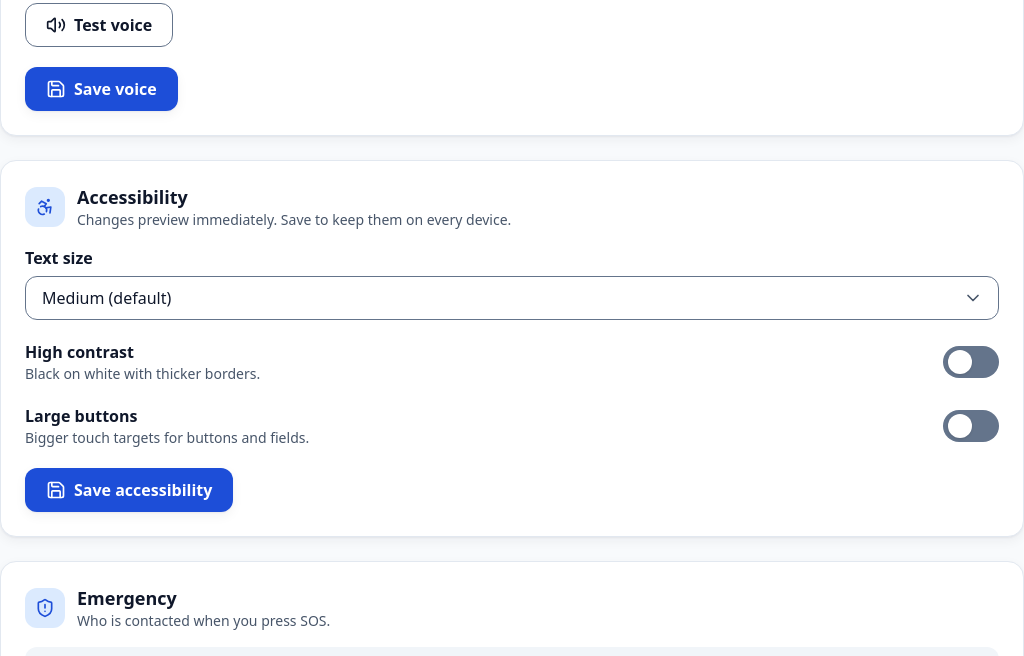
Test case: Settings page › accessibility: previews immediately, saves to the server, caches locally
(page scrolled)
Select "Extra large" in the dropdown labelled "Text size" at (512, 298), box x1=25 y1=276 x2=999 y2=320
(page scrolled)
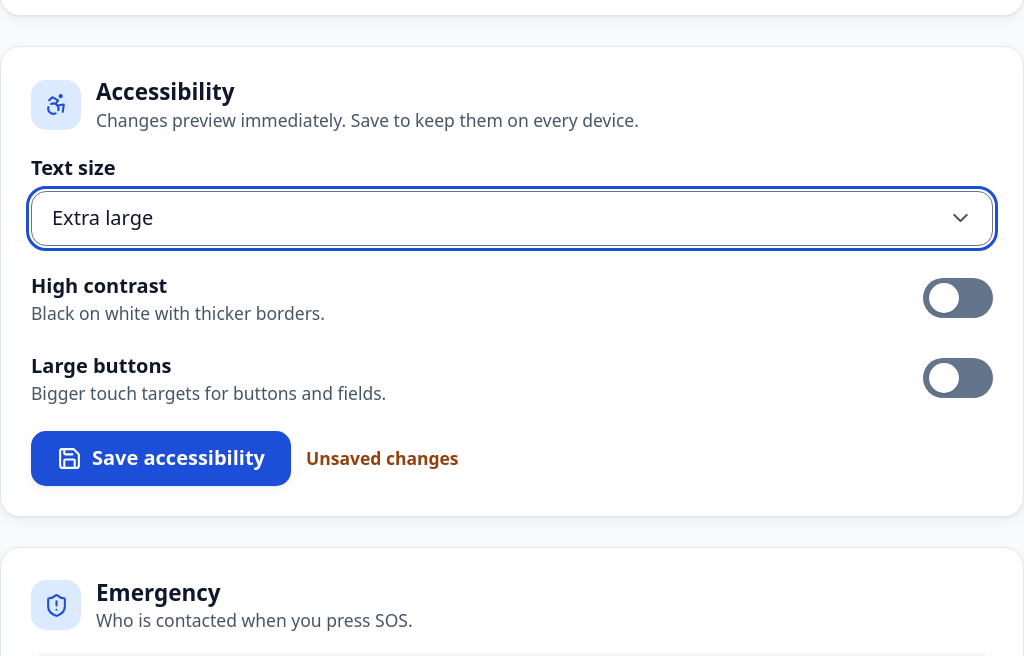
Click the switch named "High contrast" in the row of "Black on white with thicker borders." at (958, 298), box x1=923 y1=270 x2=993 y2=326
(page scrolled)
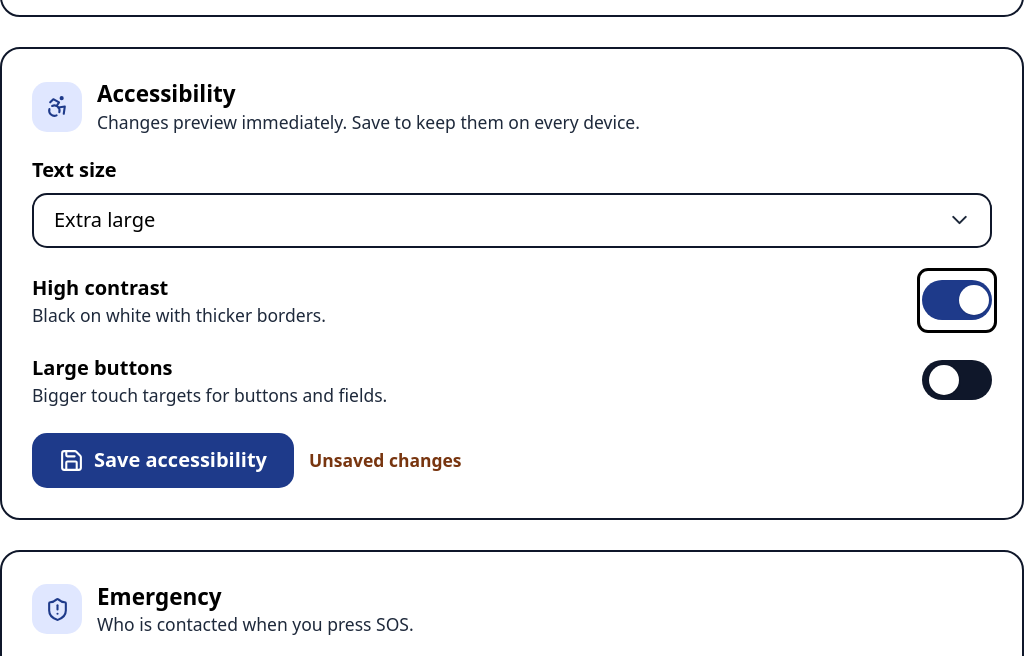
Click the switch named "Large buttons" in the row of "Large buttons" at (957, 380), box x1=922 y1=352 x2=992 y2=408
(page scrolled)
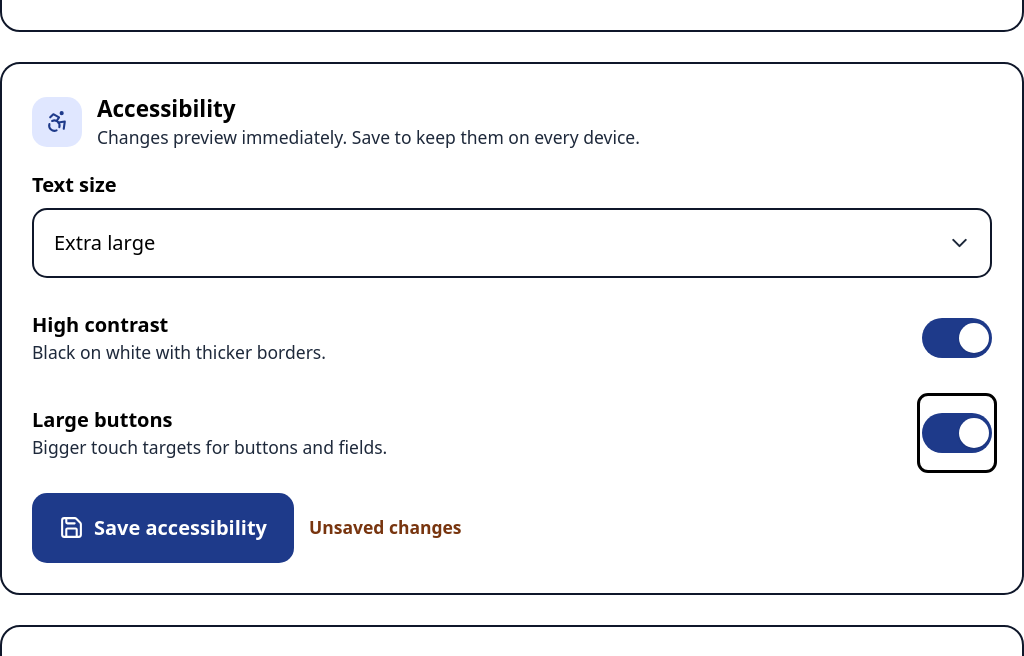
Click the button "Save accessibility" at (163, 528), box x1=32 y1=492 x2=294 y2=562
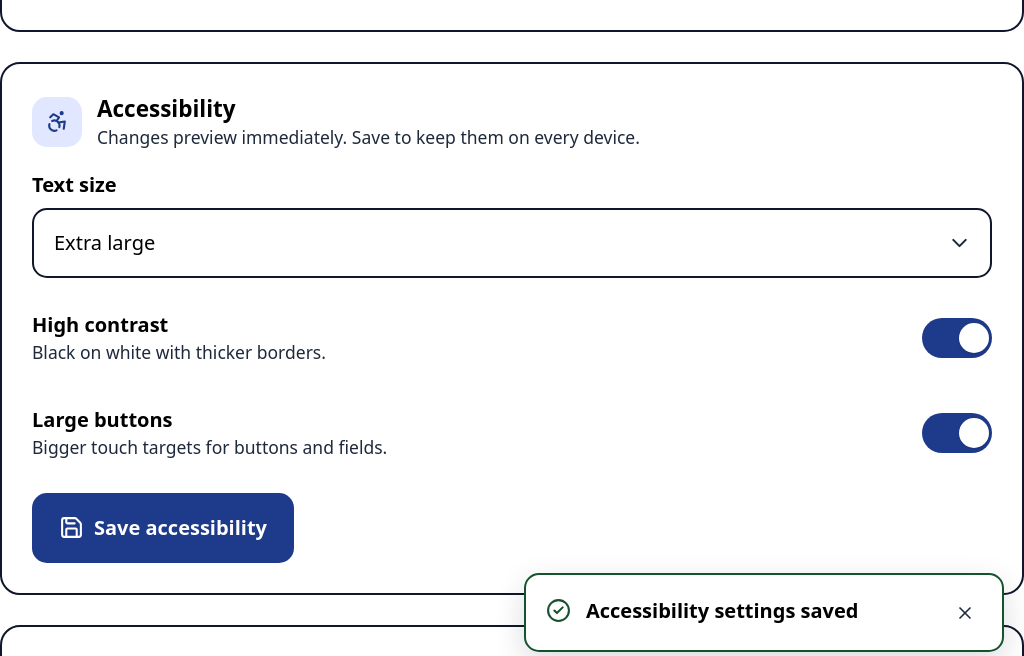
Now the text "Accessibility settings saved" is shown, box x1=586 y1=597 x2=858 y2=624
